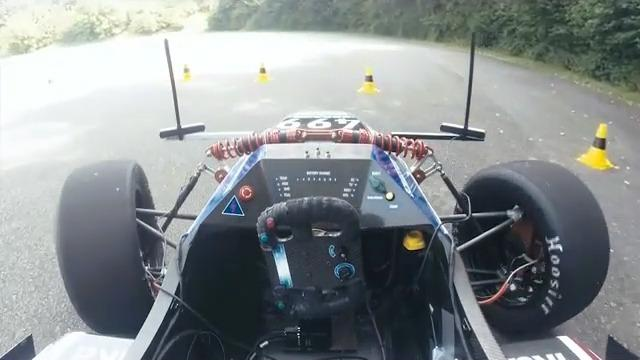yellow_cone: (578, 123, 614, 170), (358, 67, 381, 95)
